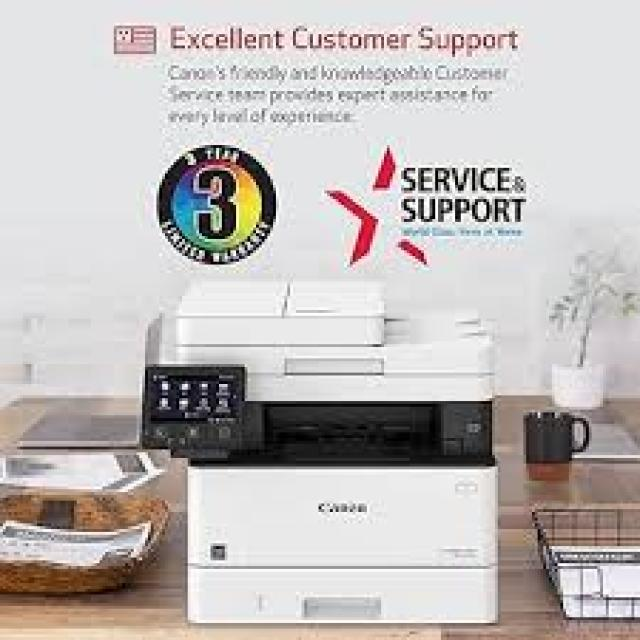printer: (140, 276, 500, 626)
